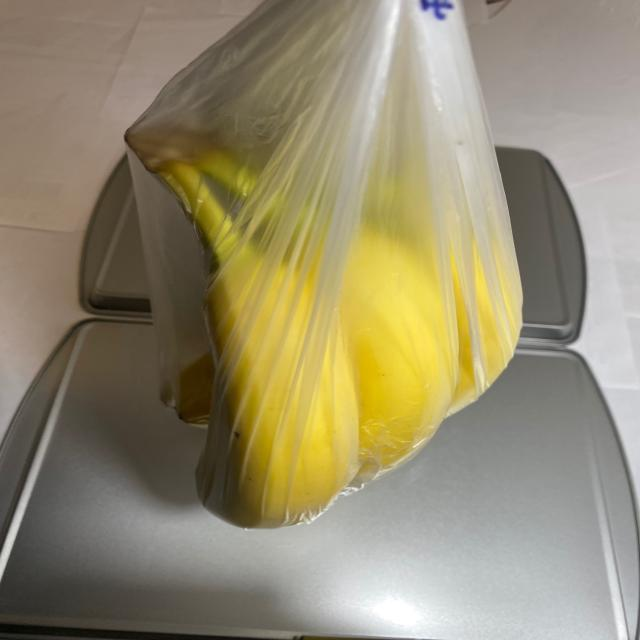banana: (120, 59, 524, 538)
